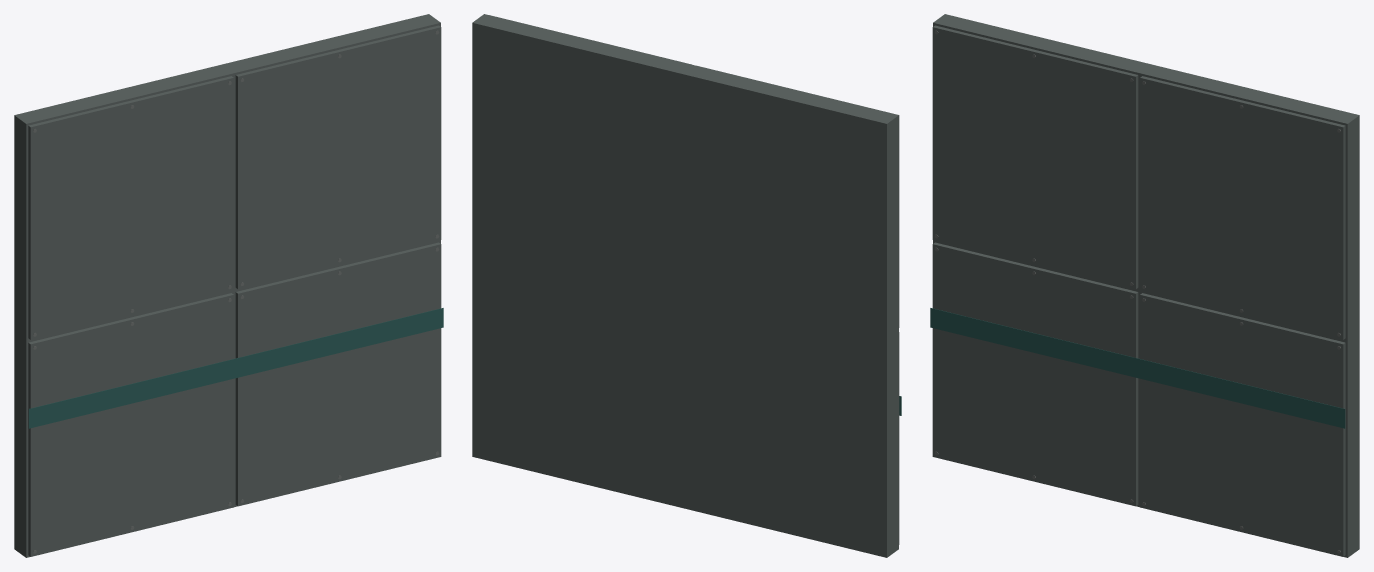
File: wall_spawn.glb
3 renders of one model, left to right at view 1: azimuth 30°, elevation 25°; view 2: azimuth 150°, elevation 25°; view 3: azimuth 330°, elevation 25°, orthographic.
Visible parts, largest first — view 1: surf_metal_wall_spawn; view 2: surf_metal_wall_spawn; view 3: surf_metal_wall_spawn.
Boxes of the visible parts, x1,y1,x2,y2 form: surf_metal_wall_spawn: [14, 14, 443, 557]; surf_metal_wall_spawn: [472, 14, 901, 557]; surf_metal_wall_spawn: [930, 14, 1359, 557].
Bounding box in the file's own units: 4 × 4 × 0.246.
